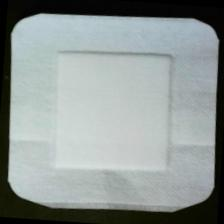Dressing: (1, 2, 224, 221)
